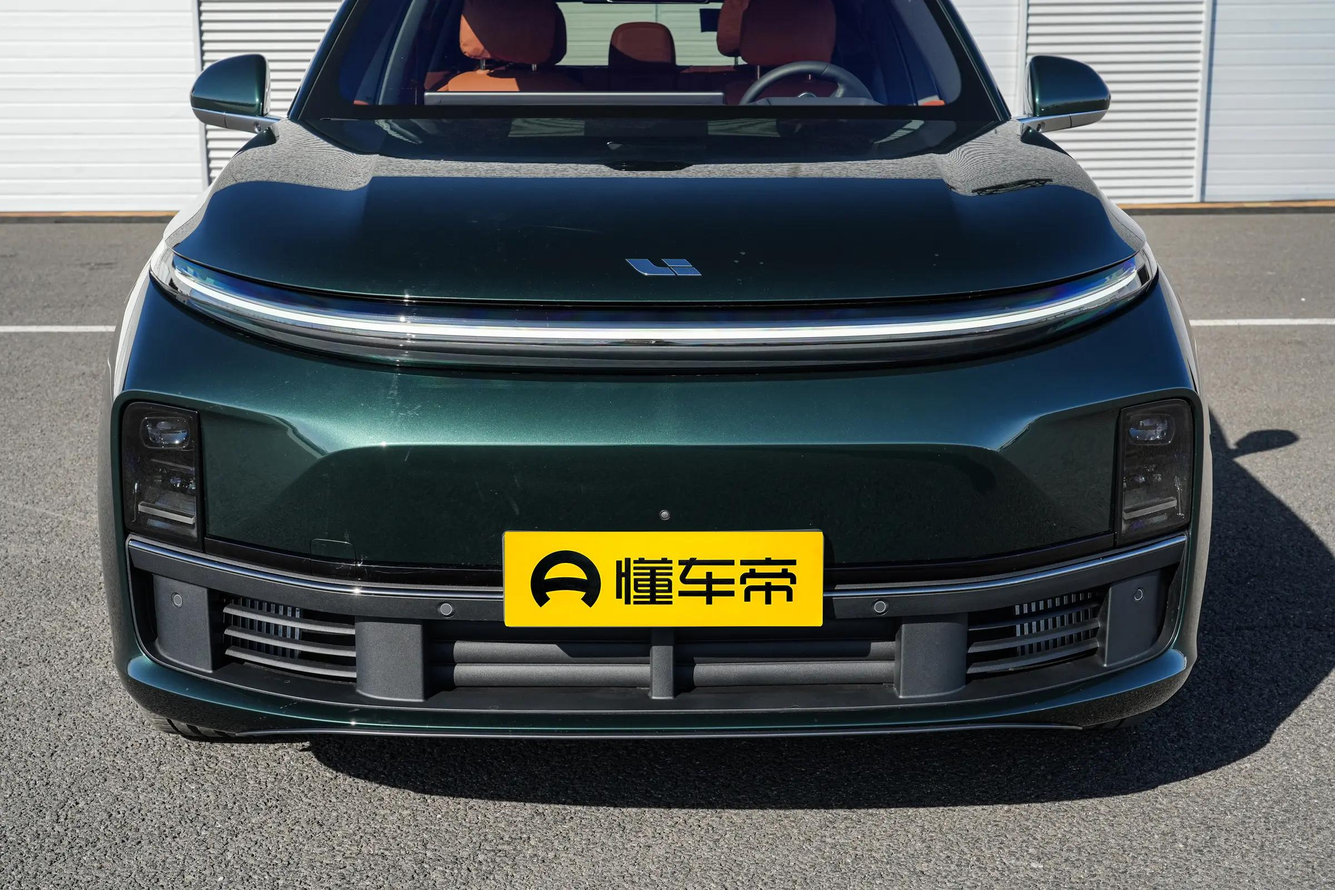Li Auto: (626, 258, 701, 277)
